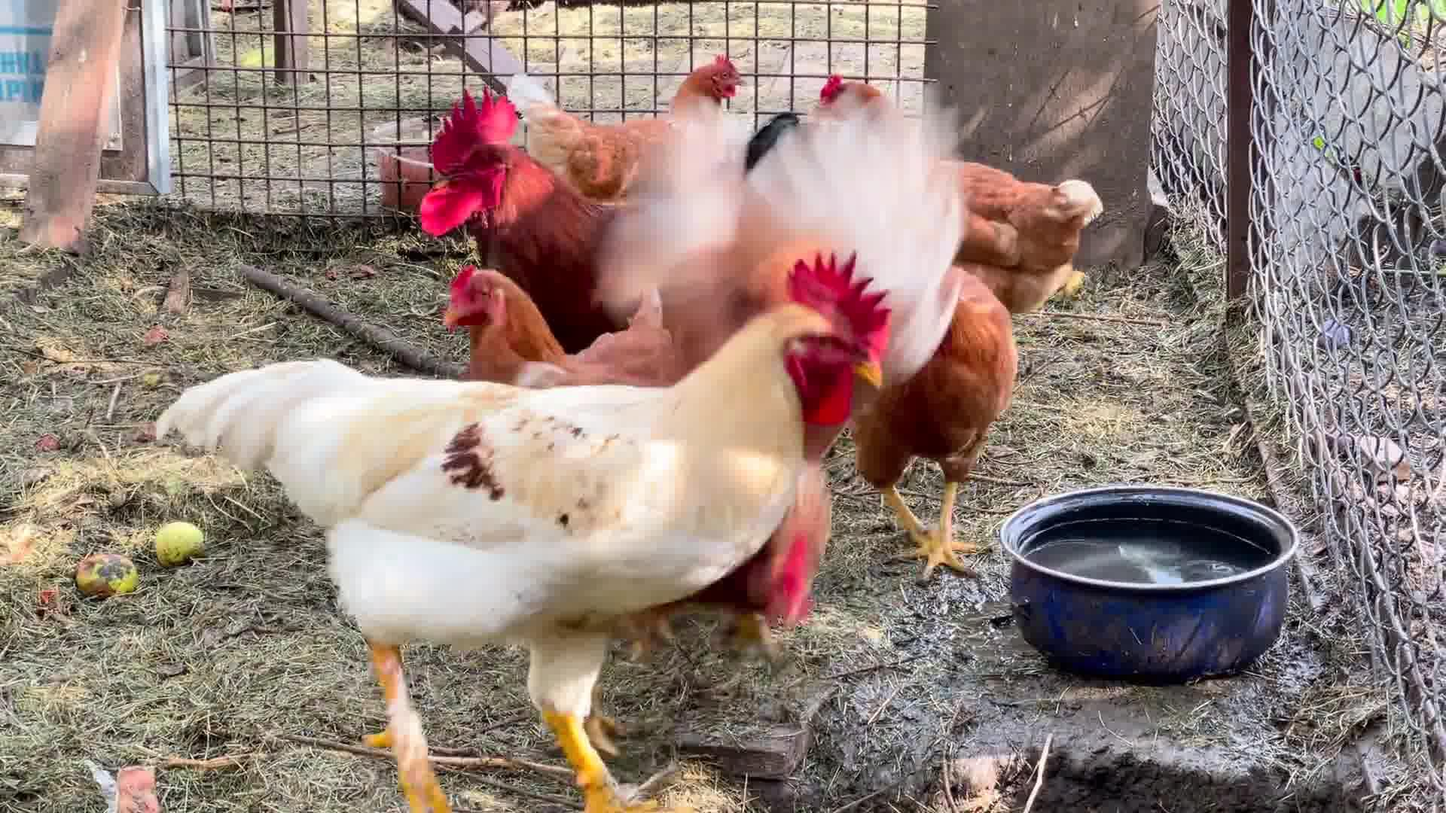Normal: (155, 251, 888, 803), (396, 55, 647, 280), (652, 44, 765, 303), (964, 149, 1122, 321)
